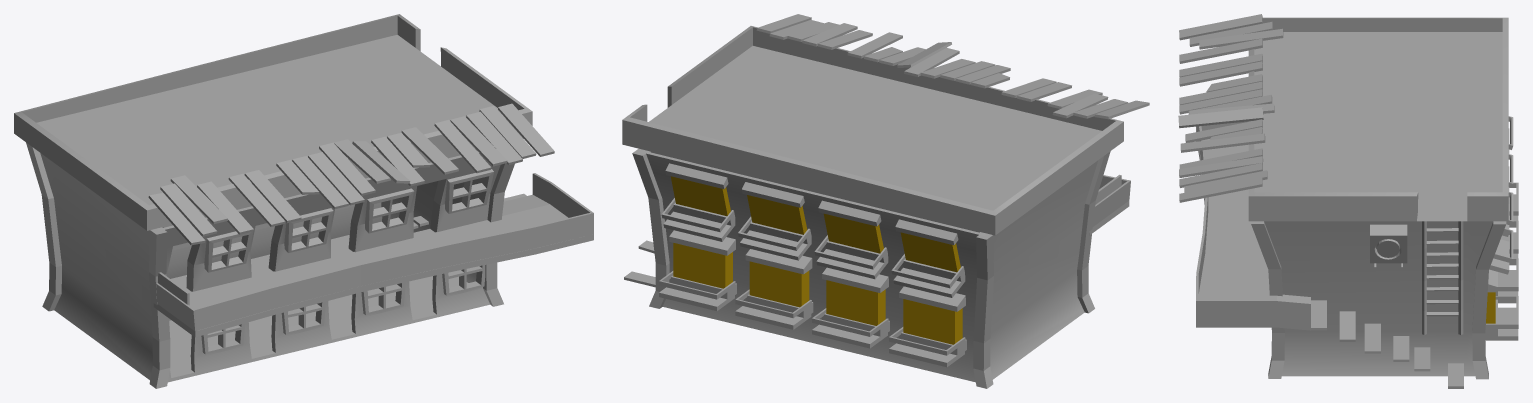
File: fuck uAPARTMENT_.fbx
3 views of the same model, side by side, from view 1: azimuth 30°, elevation 25°; view 2: azimuth 150°, elevation 25°; view 3: azimuth 270°, elevation 25° (orthographic). The views are drawn at different scales.
Visible parts, largest first — view 1: building; view 2: building, stairs; view 3: building, stairs, ladder, ac_unit.
Part boxes in pixels (bbox=[...]): building: bbox=[14, 14, 593, 388]; building: bbox=[622, 14, 1149, 388]; stairs: bbox=[624, 240, 655, 287]; building: bbox=[1178, 14, 1518, 379]; stairs: bbox=[1311, 300, 1463, 388]; ladder: bbox=[1422, 221, 1463, 334]; ac_unit: bbox=[1370, 224, 1407, 267].
Size of the model in its own units: 1717 by 792 by 1233.
